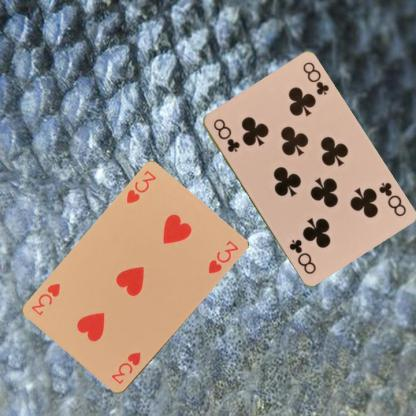3h: (124, 168, 158, 206), (109, 350, 142, 386)
8c: (376, 179, 408, 218), (210, 116, 241, 154)
